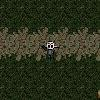Jason: (38, 40, 60, 61)
